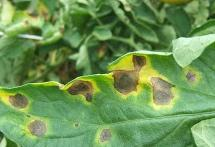Tomato Early blight leaf: (0, 23, 215, 147)
